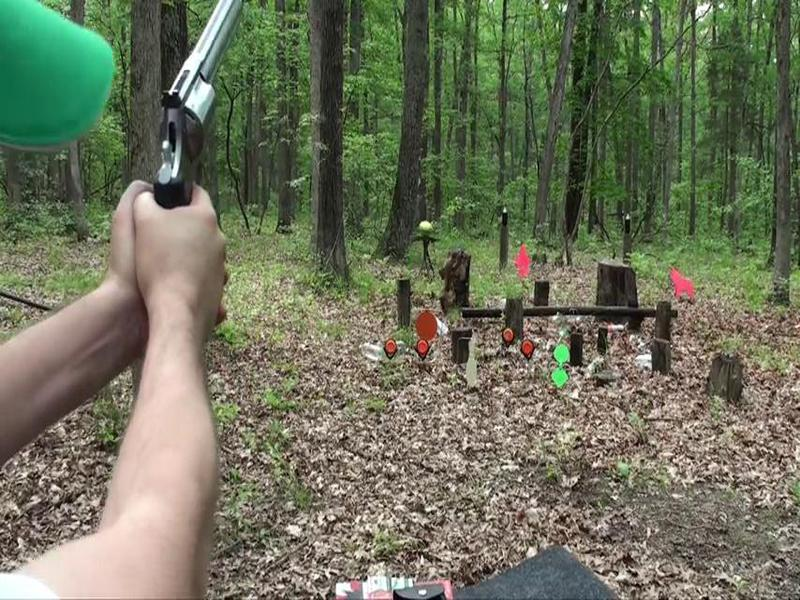Revolver: (113, 1, 275, 233)
